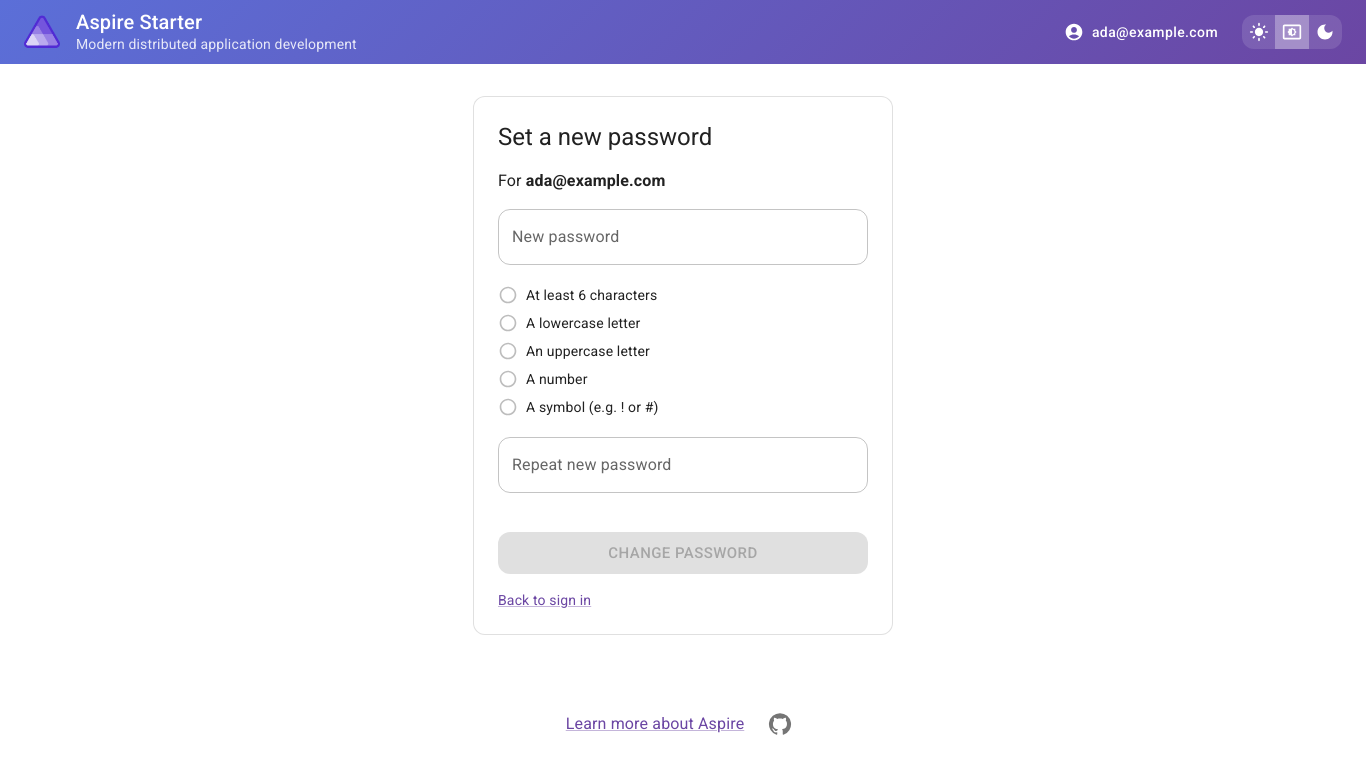
Test: ResetPasswordPage › tells the user the password changed when signing out fails
In the password field labelled "New password": point(683, 237) [498,209,868,265], type "N3wPassw0rd!"
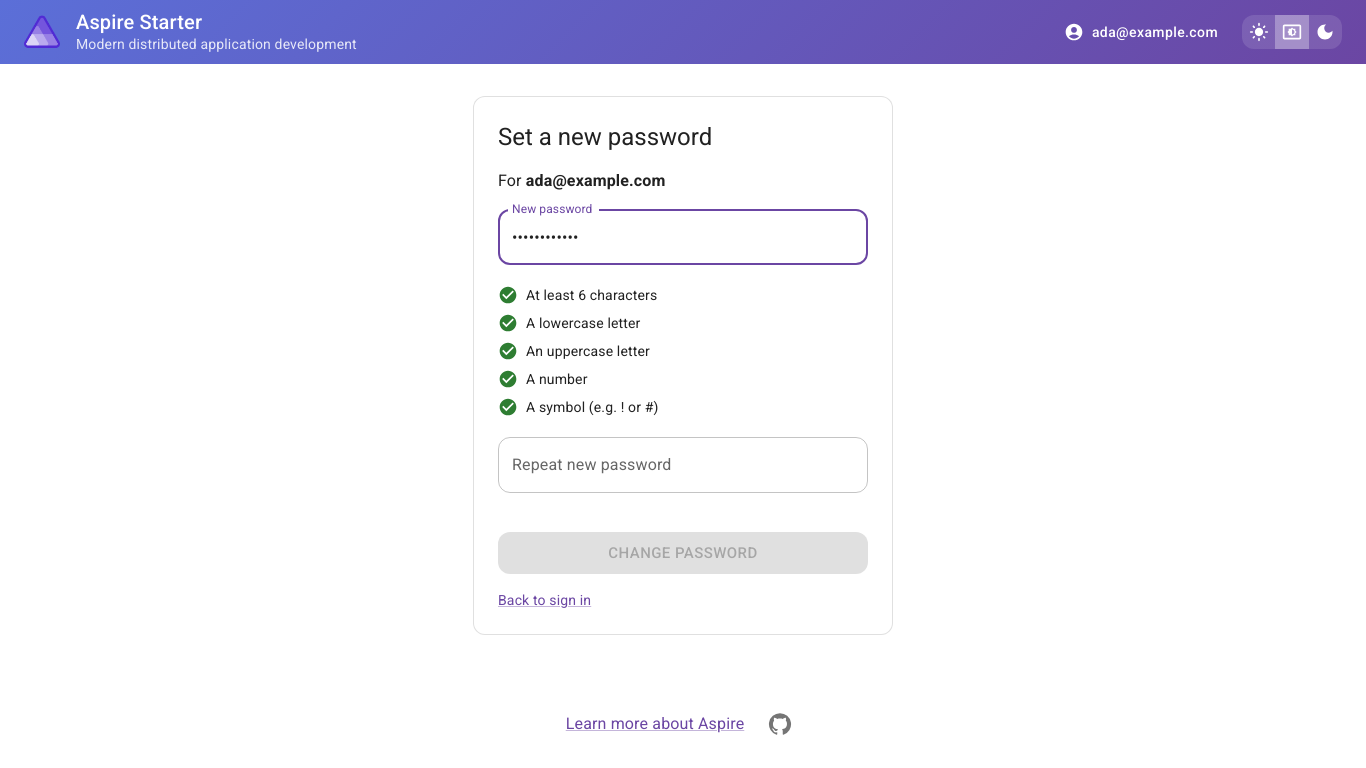
In the password field labelled "Repeat new password": point(683, 465) [498,437,868,493], type "N3wPassw0rd!"
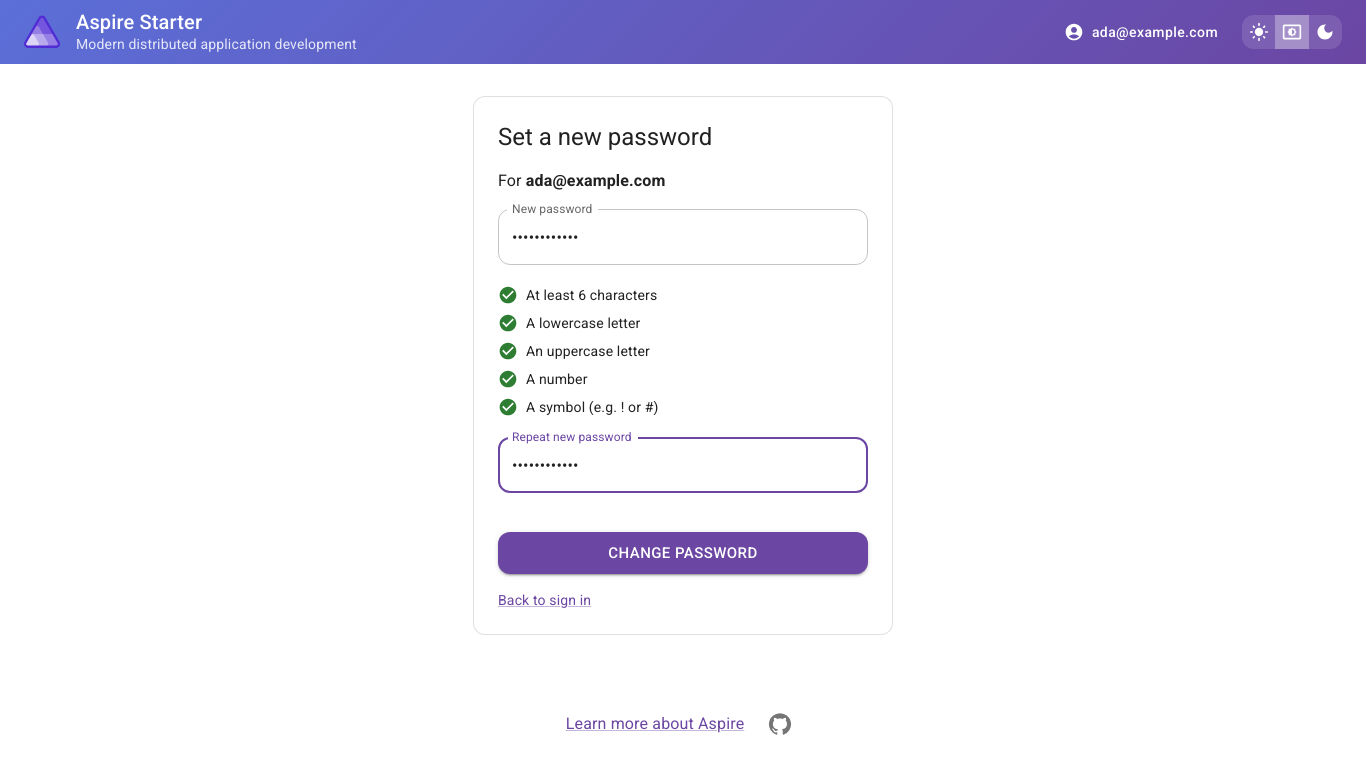
Click the button "Change password": point(683, 553) [498,532,868,574]
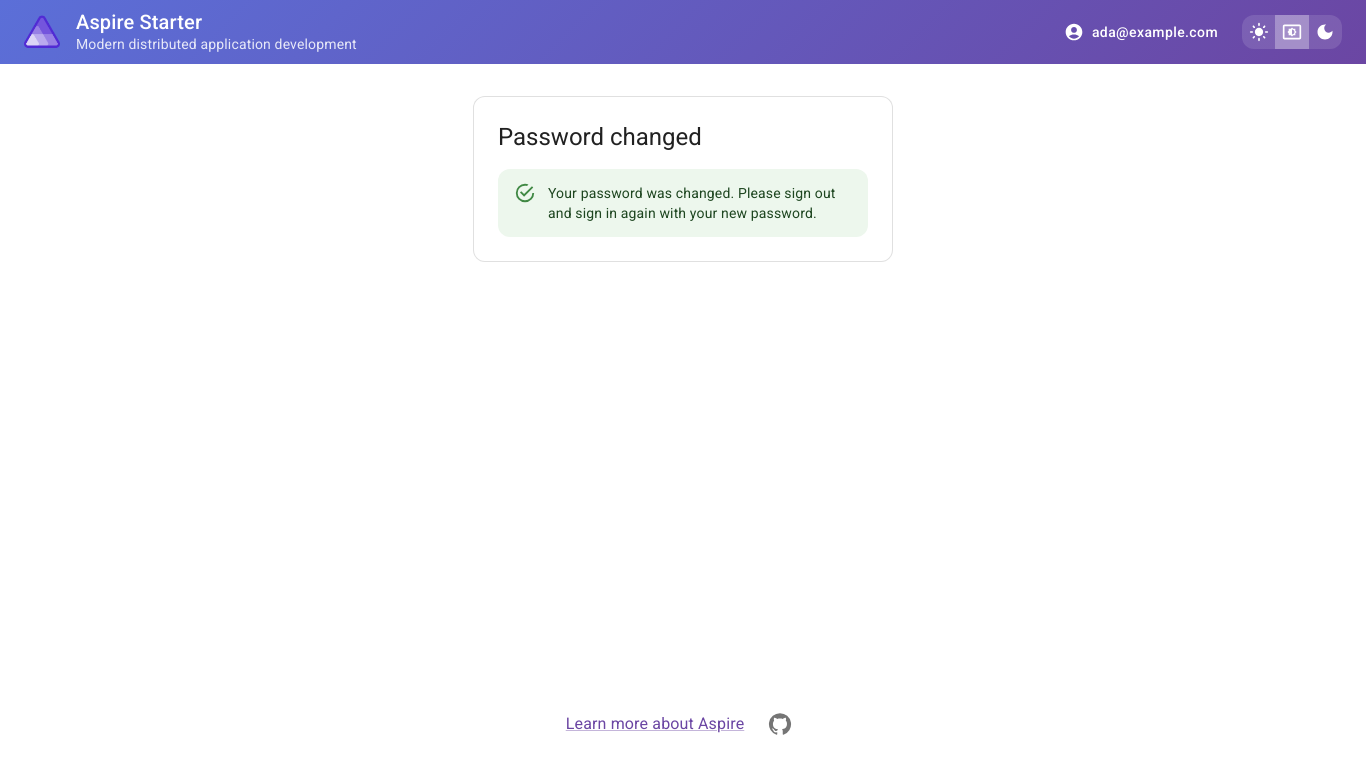
Check: the text "Your password was changed. Please sign out and sign in again" is shown, box [548,185,836,221]
